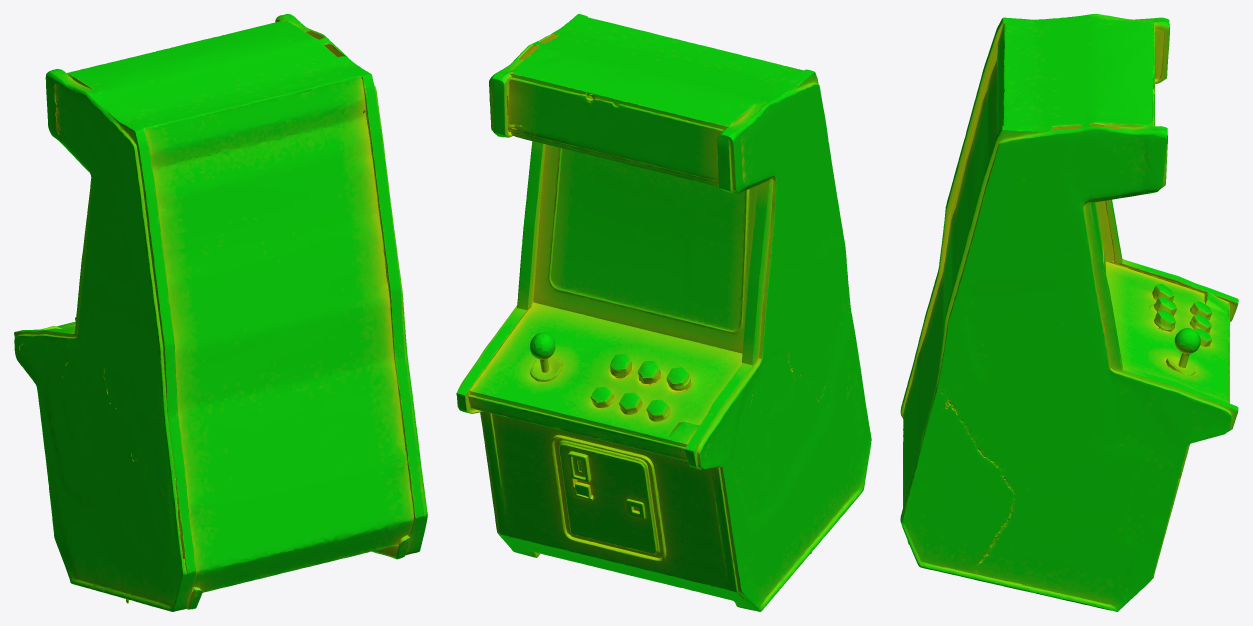
File: arcademachine_outline.fbx
The picture shows the model from 3 angles, left to right: view 1: azimuth 30°, elevation 25°; view 2: azimuth 150°, elevation 25°; view 3: azimuth 270°, elevation 25°; orthographic projection. The views are drawn at different scales.
Parts seen in each view (by area): view 1: arcademachine_outline; view 2: arcademachine_outline; view 3: arcademachine_outline.
Boxes of the visible parts, x1=… form: arcademachine_outline: x1=14, y1=14, x2=427, y2=611; arcademachine_outline: x1=456, y1=14, x2=871, y2=611; arcademachine_outline: x1=900, y1=14, x2=1238, y2=611.
Size of the model in its own units: 93.72 by 180 by 114.
